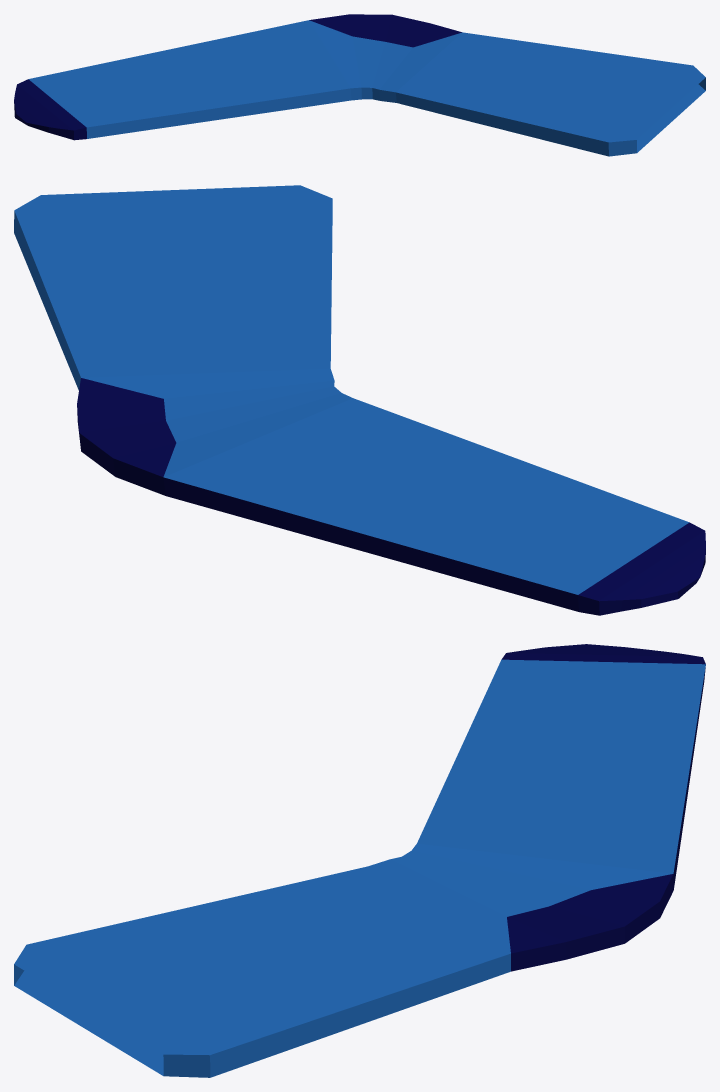
File: sock.fbx
The picture shows the model from 3 angles, top to bottom: view 1: azimuth 30°, elevation 25°; view 2: azimuth 150°, elevation 25°; view 3: azimuth 270°, elevation 25°; orthographic projection. The views are drawn at different scales.
Parts seen in each view (by area): view 1: Cube; view 2: Cube; view 3: Cube.
Part boxes in pixels (box(x1,y1,x2,y2)): Cube: box(14, 14, 705, 156); Cube: box(14, 185, 705, 615); Cube: box(14, 644, 705, 1077).
Size of what is drawn, in the model's own units: 408 by 10.32 by 279.
